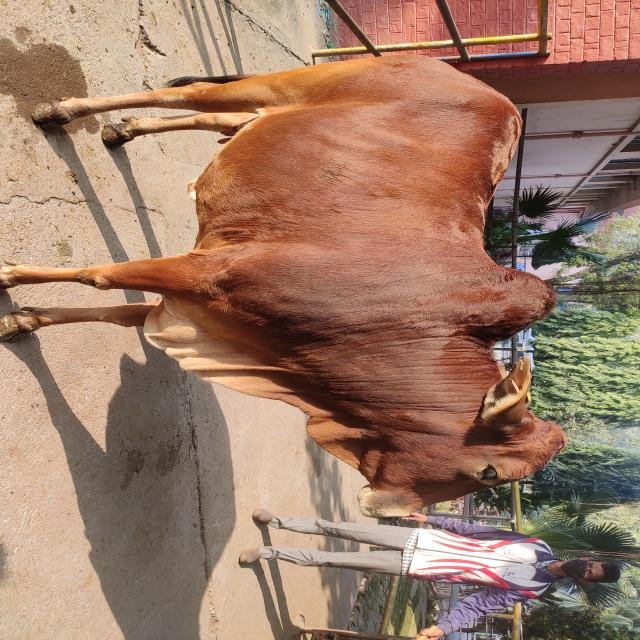cow: (1, 53, 568, 520)
hump: (482, 254, 558, 344)
